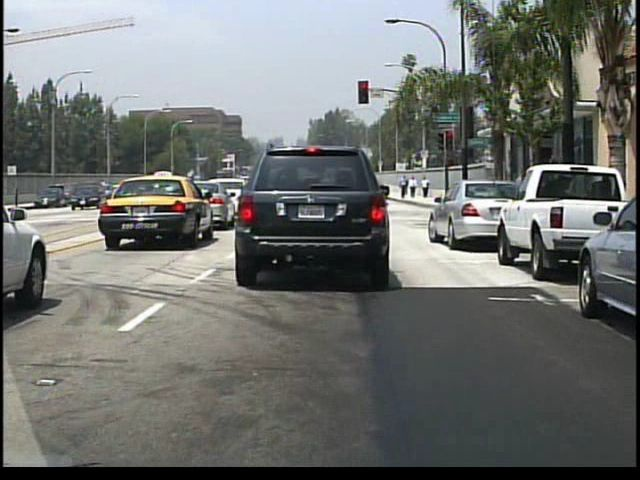person: (421, 174, 432, 199), (409, 175, 418, 200), (399, 175, 408, 199)
